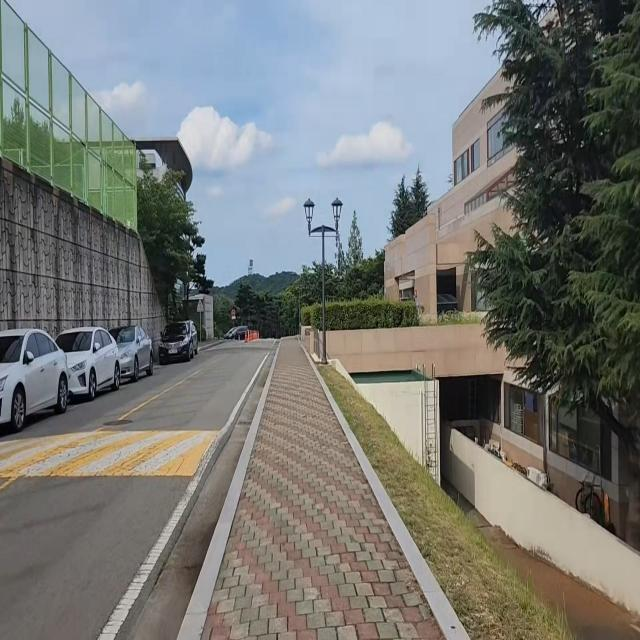obstacle: (52, 319, 128, 410), (103, 317, 158, 391), (157, 313, 206, 370)
sidewalk: (176, 332, 475, 640)
